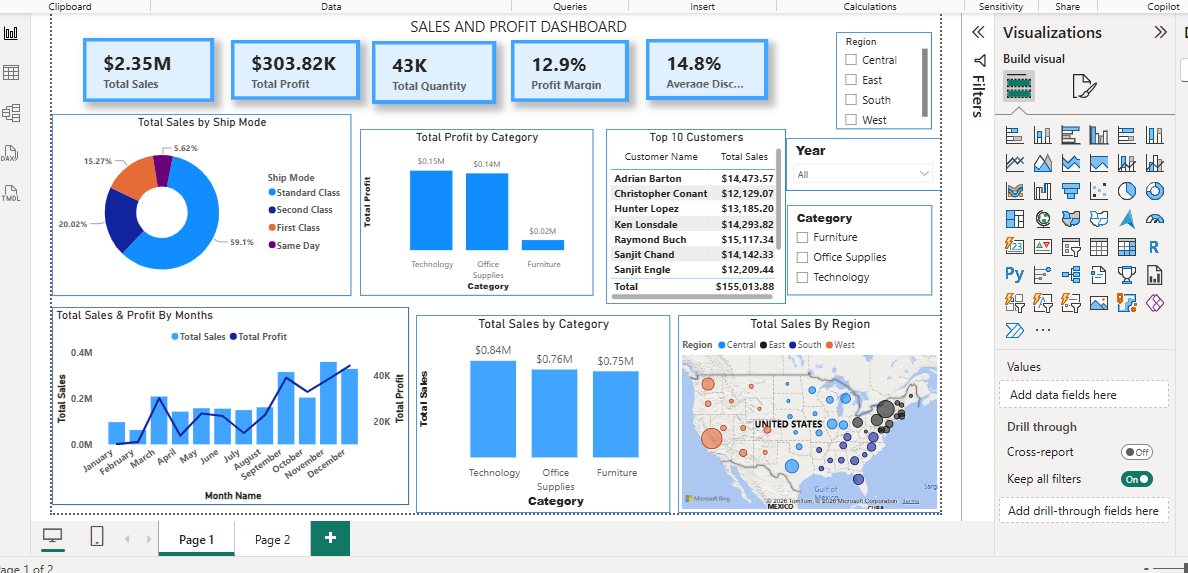

What the dashboard file says about the page in this screenshot:
{"tool":"powerbi","page":{"name":"Page 1","canvas":[1280,720],"ordinal":0},"visuals":[{"type":"cardVisual","fields":{"Data":["fact_sales.Total Profit"]},"box":[257.8,38.9,185.8,86.4],"z":0},{"type":"textbox","box":[489.6,0,342.7,40.3],"z":1000},{"type":"lineStackedColumnComboChart","title":"Total Sales & Profit By Months","fields":{"Category":["dim_date.Month Name"],"Y":["fact_sales.Total Sales"],"Y2":["fact_sales.Total Profit"]},"box":[0,423.4,514.1,285.1],"z":2000},{"type":"clusteredColumnChart","fields":{"Y":["fact_sales.Total Sales"],"Category":["dim_product.Category"]},"box":[524.2,434.9,365.8,285.1],"z":3000},{"type":"cardVisual","fields":{"Data":["fact_sales.Total Quantity"]},"box":[460.8,40.3,178.6,90.7],"z":4000},{"type":"cardVisual","fields":{"Data":["fact_sales.Total Sales"]},"box":[44.6,36,188.6,92.2],"z":5000},{"type":"cardVisual","fields":{"Data":["fact_sales.Profit Margin"]},"box":[661,38.9,169.9,89.3],"z":6000},{"type":"cardVisual","fields":{"Data":["fact_sales.Average Discount"]},"box":[855.4,37.4,175.7,87.8],"z":7000},{"type":"clusteredColumnChart","fields":{"Category":["dim_product.Category"],"Y":["fact_sales.Total Profit"]},"box":[443.5,167,335.5,240.5],"z":8000},{"type":"map","title":"Total Sales By Region","fields":{"Category":["dim_location.State"],"Size":["fact_sales.Total Sales"],"Series":["dim_location.Region"]},"box":[901.4,434.9,378.7,285.1],"z":9000},{"type":"donutChart","fields":{"Category":["dim_ship_mode.Ship Mode"],"Y":["fact_sales.Total Sales"]},"box":[0,145.4,430.6,262.1],"z":10000},{"type":"tableEx","title":"Top 10 Customers","fields":{"Values":["dim_customer.Customer Name","fact_sales.Total Sales"]},"box":[797.6,167.3,258.8,251.8],"z":11000},{"type":"slicer","fields":{"Values":["dim_date.Year"]},"box":[1057,180,223.2,76.3],"z":12000},{"type":"slicer","fields":{"Values":["dim_product.Category"]},"box":[1058.4,276.5,208.8,129.6],"z":13000},{"type":"slicer","fields":{"Values":["dim_location.Region"]},"box":[1129,27.4,138.2,139.7],"z":14000}]}

Visuals, with their boxes on the page's 1280x720 design canvas (x1, y1, x2, y2). These are canvas units, not pixel positions in the 1188x573 screenshot, which may show the page scaled, cropped or inside an application window:
cardVisual - fact_sales.Total Profit: {"left": 258, "top": 39, "right": 444, "bottom": 125}
textbox: {"left": 490, "top": 0, "right": 832, "bottom": 40}
"Total Sales & Profit By Months" lineStackedColumnComboChart: {"left": 0, "top": 423, "right": 514, "bottom": 708}
clusteredColumnChart - fact_sales.Total Sales x dim_product.Category: {"left": 524, "top": 435, "right": 890, "bottom": 720}
cardVisual - fact_sales.Total Quantity: {"left": 461, "top": 40, "right": 639, "bottom": 131}
cardVisual - fact_sales.Total Sales: {"left": 45, "top": 36, "right": 233, "bottom": 128}
cardVisual - fact_sales.Profit Margin: {"left": 661, "top": 39, "right": 831, "bottom": 128}
cardVisual - fact_sales.Average Discount: {"left": 855, "top": 37, "right": 1031, "bottom": 125}
clusteredColumnChart - dim_product.Category x fact_sales.Total Profit: {"left": 444, "top": 167, "right": 779, "bottom": 408}
"Total Sales By Region" map: {"left": 901, "top": 435, "right": 1280, "bottom": 720}
donutChart - dim_ship_mode.Ship Mode x fact_sales.Total Sales: {"left": 0, "top": 145, "right": 431, "bottom": 408}
"Top 10 Customers" tableEx: {"left": 798, "top": 167, "right": 1056, "bottom": 419}
slicer - dim_date.Year: {"left": 1057, "top": 180, "right": 1280, "bottom": 256}
slicer - dim_product.Category: {"left": 1058, "top": 276, "right": 1267, "bottom": 406}
slicer - dim_location.Region: {"left": 1129, "top": 27, "right": 1267, "bottom": 167}
